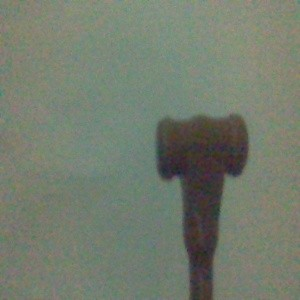palu: (155, 114, 249, 300)
